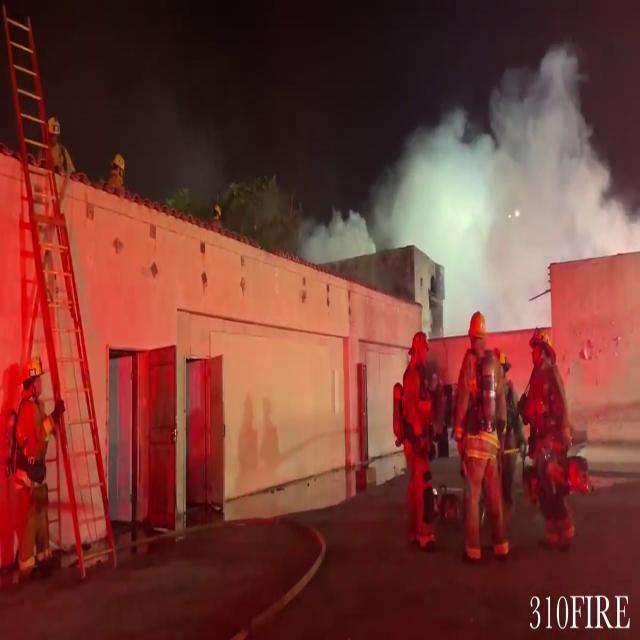Smoke: (389, 38, 640, 286)
